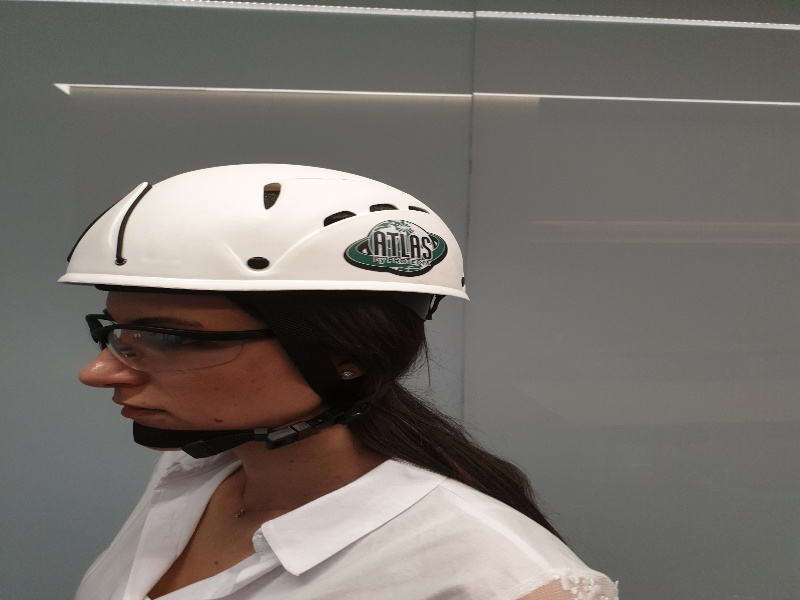Baret: (55, 163, 470, 302)
Gozluk: (84, 314, 295, 367)
